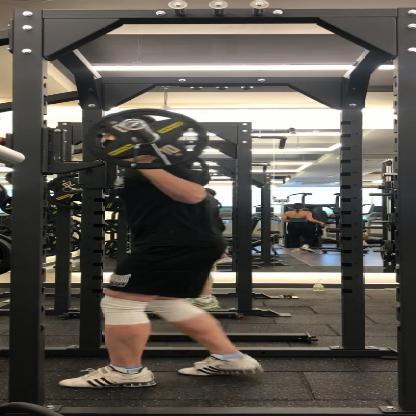Barbell: (122, 118, 147, 132)
